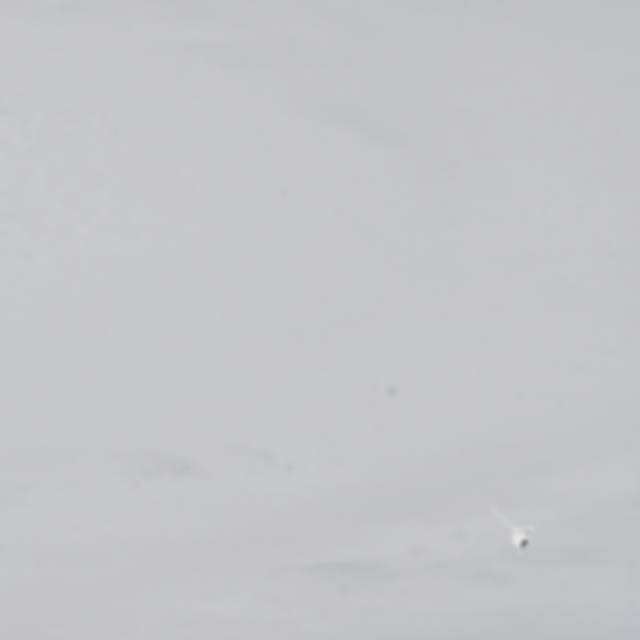satellite: (469, 481, 541, 564)
